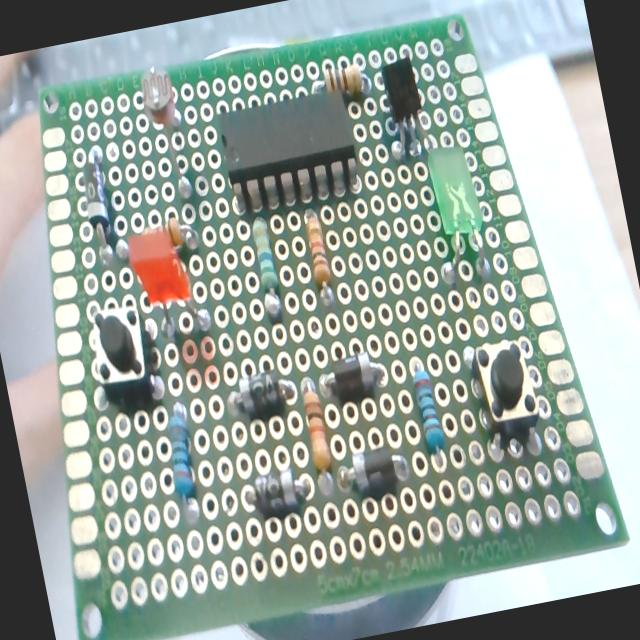IC: (213, 83, 363, 217)
cds: (136, 63, 198, 206)
diode: (75, 146, 128, 268), (315, 349, 390, 412), (338, 442, 412, 504), (241, 465, 316, 525), (226, 364, 300, 424)
led: (424, 140, 496, 288), (122, 220, 205, 346)
resistor: (159, 403, 204, 503), (298, 378, 338, 490), (248, 214, 286, 318), (301, 207, 337, 308), (410, 366, 448, 458), (322, 58, 368, 100)
switch: (467, 336, 546, 454), (83, 300, 159, 411)
transistor: (376, 53, 432, 160)
